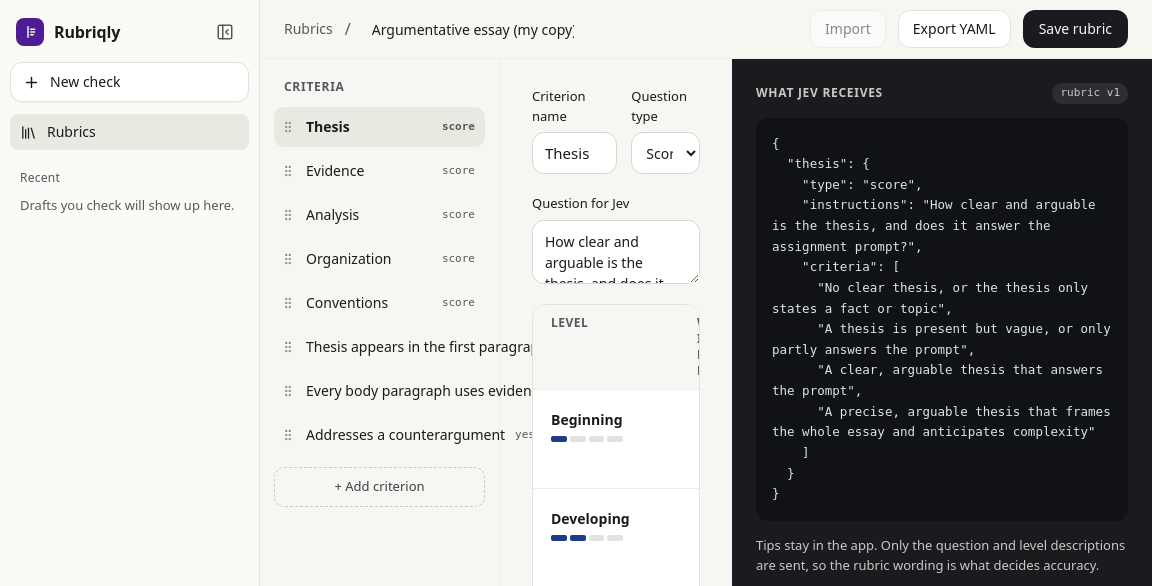
Test: Rubric builder › shows yes/no items as boolean questions without a levels table
The width and height of the screenshot is (1152, 586).
Click the button "Addresses a counterargument yes/no".
click(435, 435)  # box [306,415,565,455]
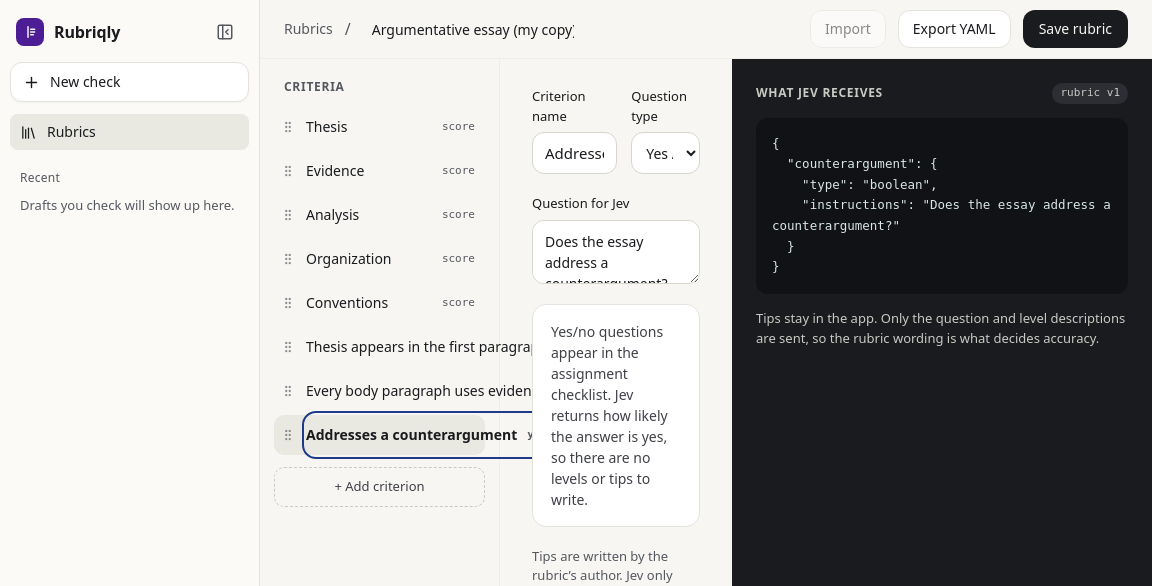
Expected: the field labelled "what it looks like" is not shown
Expected: the element "What Jev receives" shows "\"type\": \"boolean\"", [772,136,1118,274]
